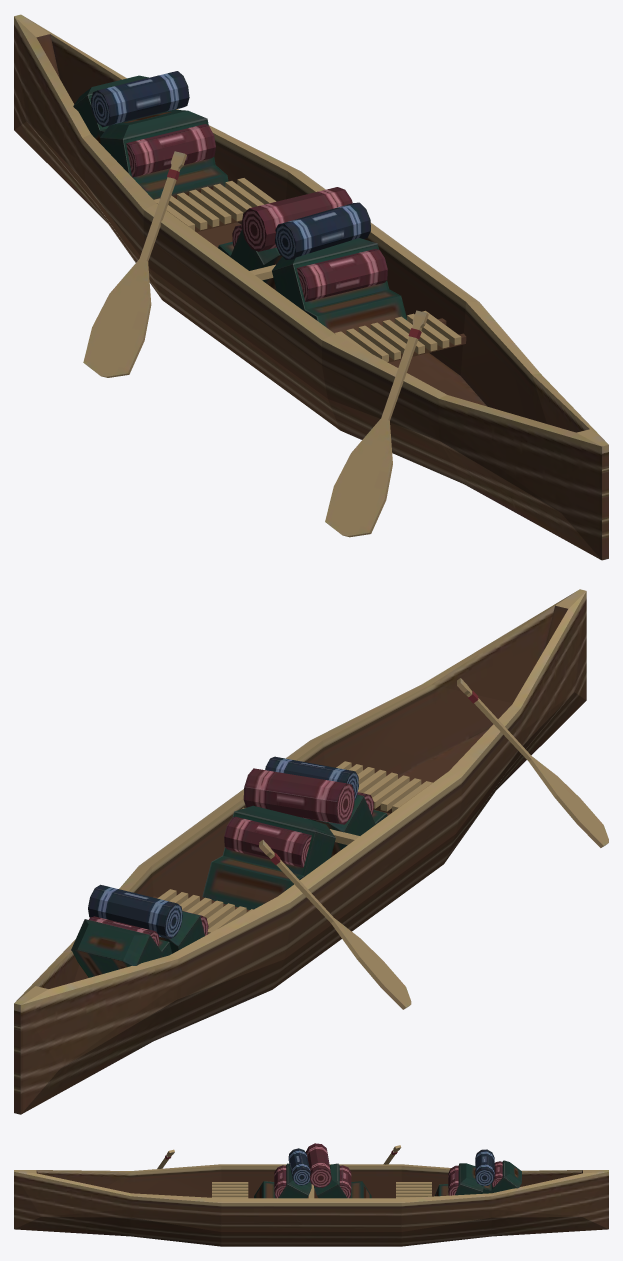
Rendered from 1ezQ4a2dwVX.glb.
3 views of the same model, one above another, from view 1: azimuth 30°, elevation 25°; view 2: azimuth 150°, elevation 25°; view 3: azimuth 270°, elevation 25° (orthographic). The views are drawn at different scales.
Parts seen in each view (by area): view 1: Canoe_5; view 2: Canoe_5; view 3: Canoe_5.
Part boxes in pixels (left/top/right/bottom): Canoe_5: left=14, top=14, right=608, bottom=560; Canoe_5: left=14, top=589, right=608, bottom=1114; Canoe_5: left=14, top=1143, right=608, bottom=1246.
Size of the model in its own units: 1.51 by 1 by 6.2.
1 material, 1 textured.
